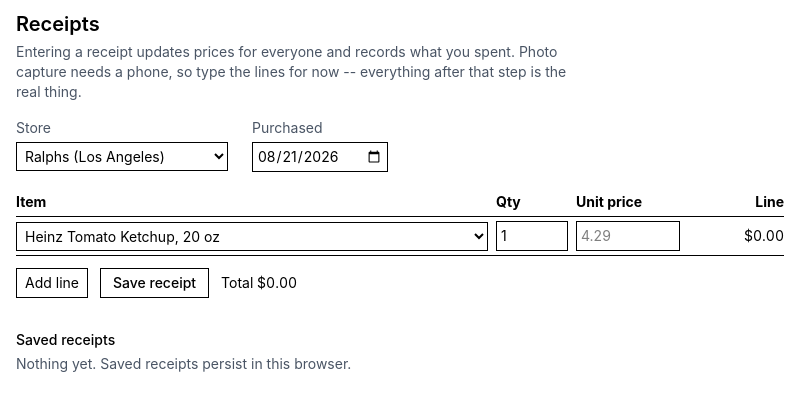
Test case: Receipts screen › refuses a line with no price
Click the button "Save receipt" at (155, 283), box [100,268,209,298]
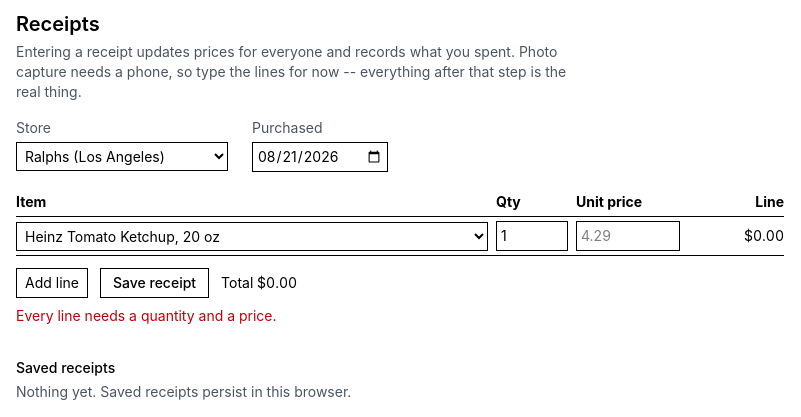
Expected: the text "Nothing yet. Saved receipts persist in this browser." is shown, [16,383,351,400]
Now the text "Every line needs a quantity and a price." is shown, box [16,307,276,324]
